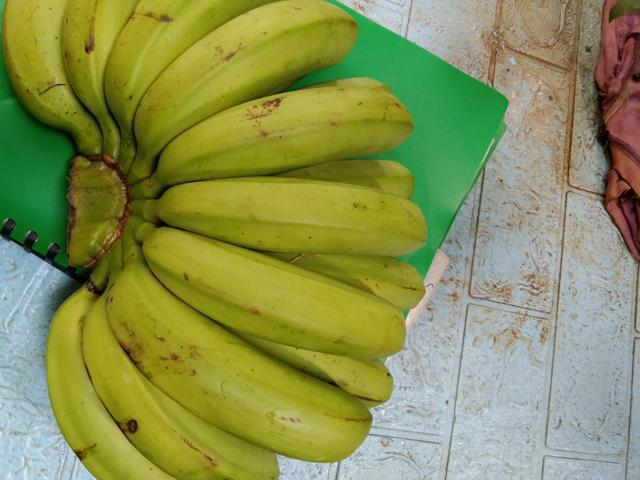freshunripe: (141, 224, 416, 360), (129, 4, 349, 155), (159, 168, 428, 256), (39, 296, 135, 479), (0, 0, 90, 152)
unripe: (101, 262, 377, 459), (75, 315, 272, 479), (174, 72, 416, 189)
